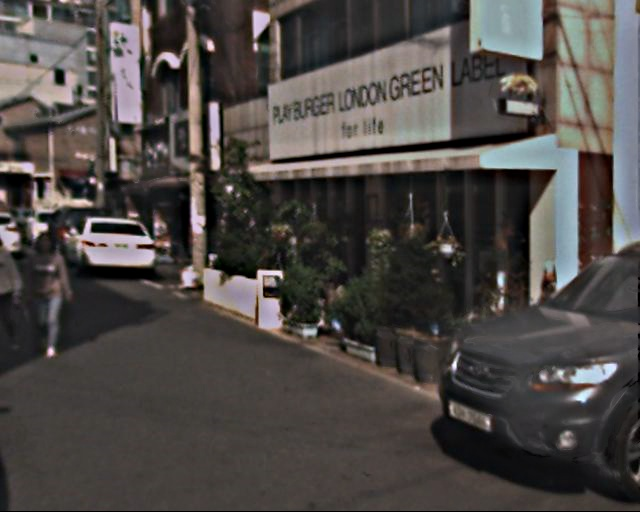person: (23, 224, 81, 361)
